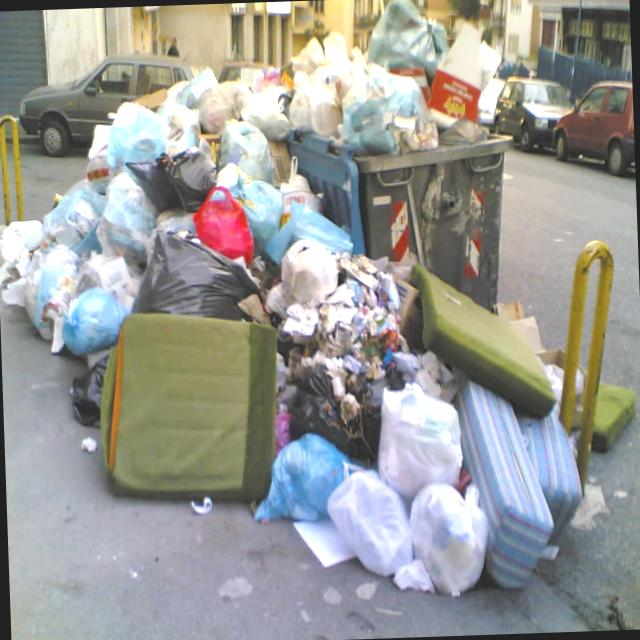garbage: (0, 12, 632, 620)
